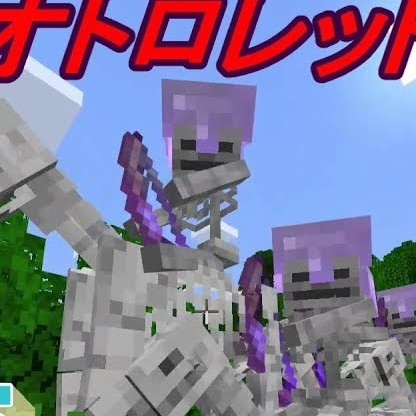skeleton: (148, 69, 262, 215)
